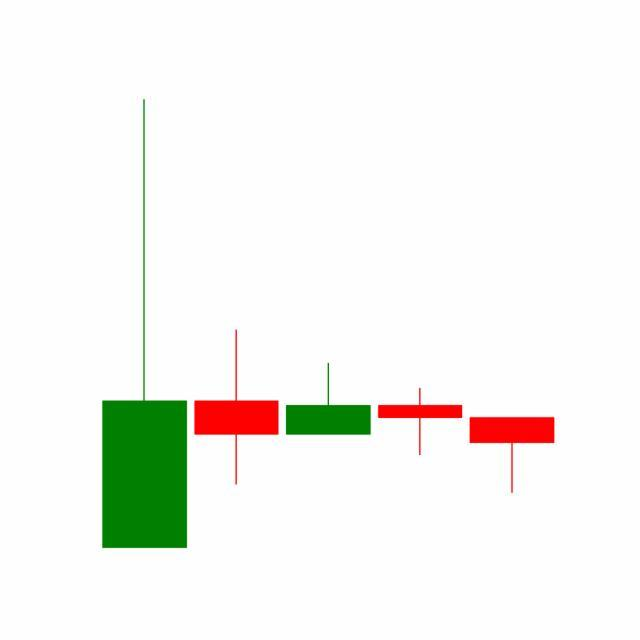Spinning Top: (374, 387, 468, 457)
